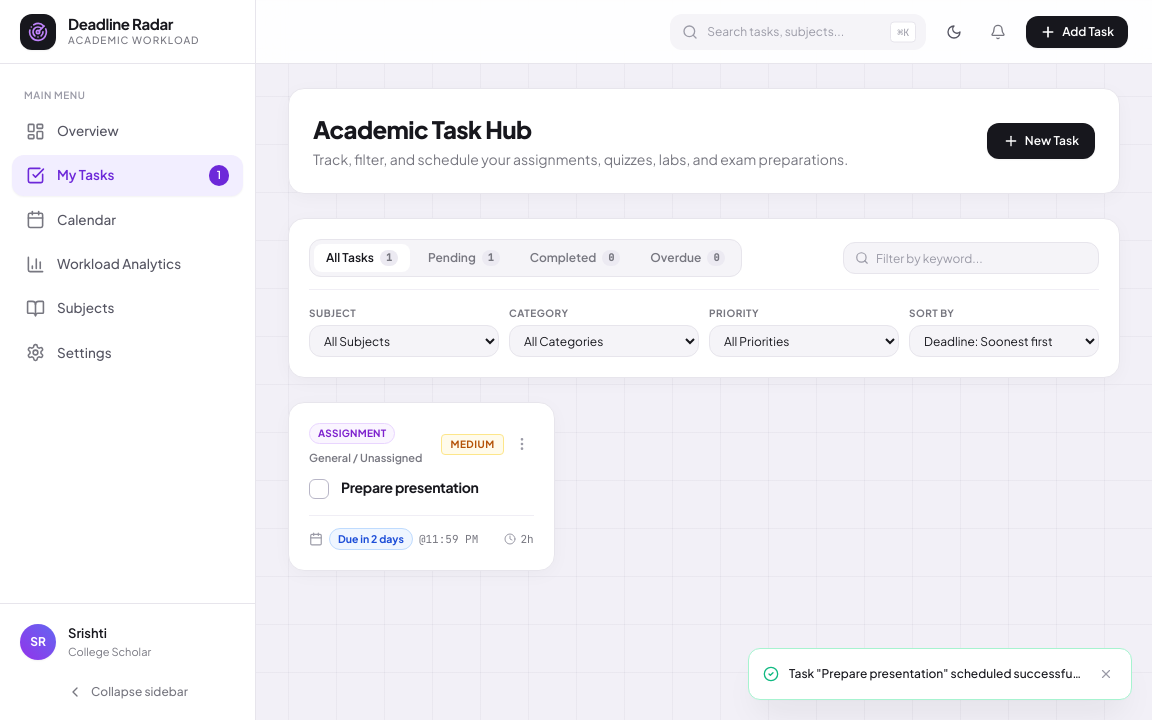
Deadline Radar task workflows › marks a task complete and updates dashboard task statistics
Earlier steps of the test are not shown.
Click the button named "Mark task as completed": (319, 488) [309,478,329,498]
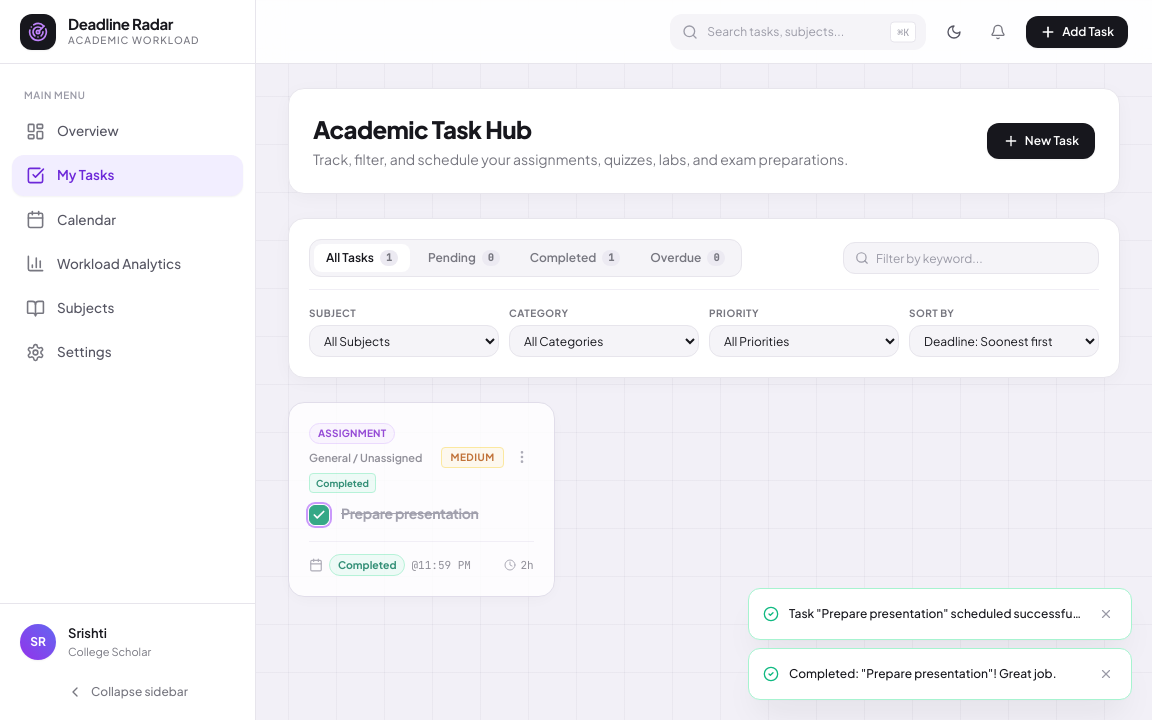
Click the button "Completed 1": (575, 258) [518,244,632,272]
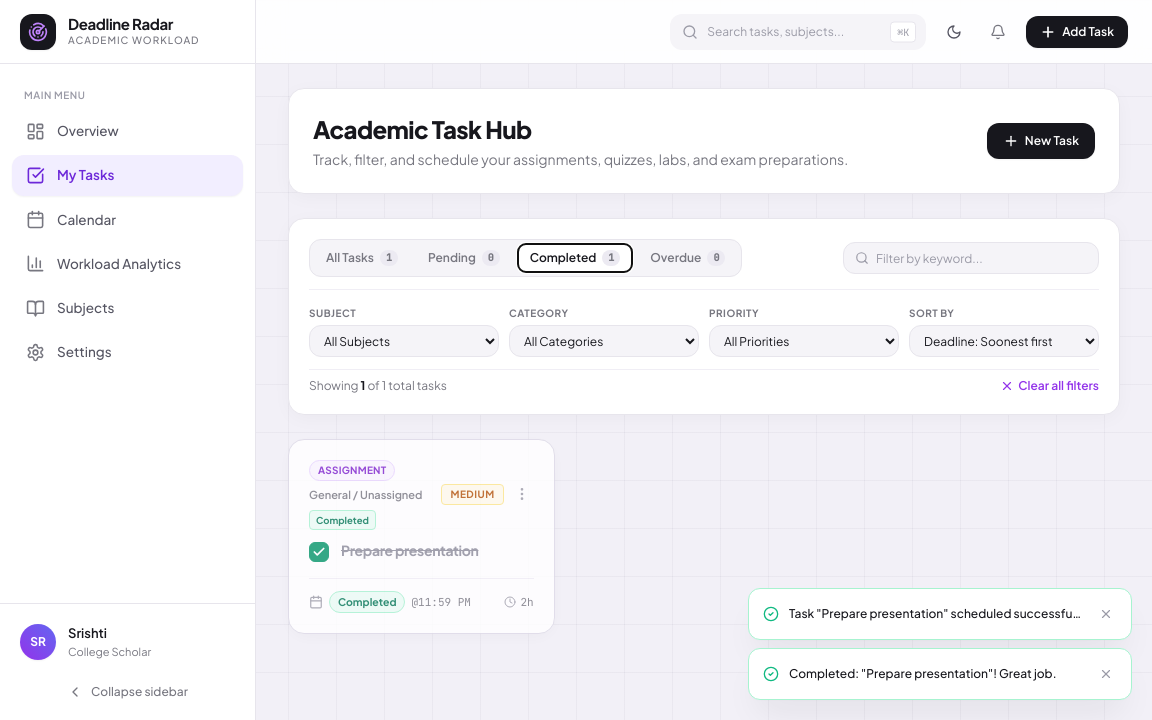
Check: the heading "Prepare presentation" is shown, box [341,541,478,559]
Check: the button named "Mark task as pending" is shown, box [309,542,329,562]
Click the button "Overview": (128, 131) [12,111,243,151]
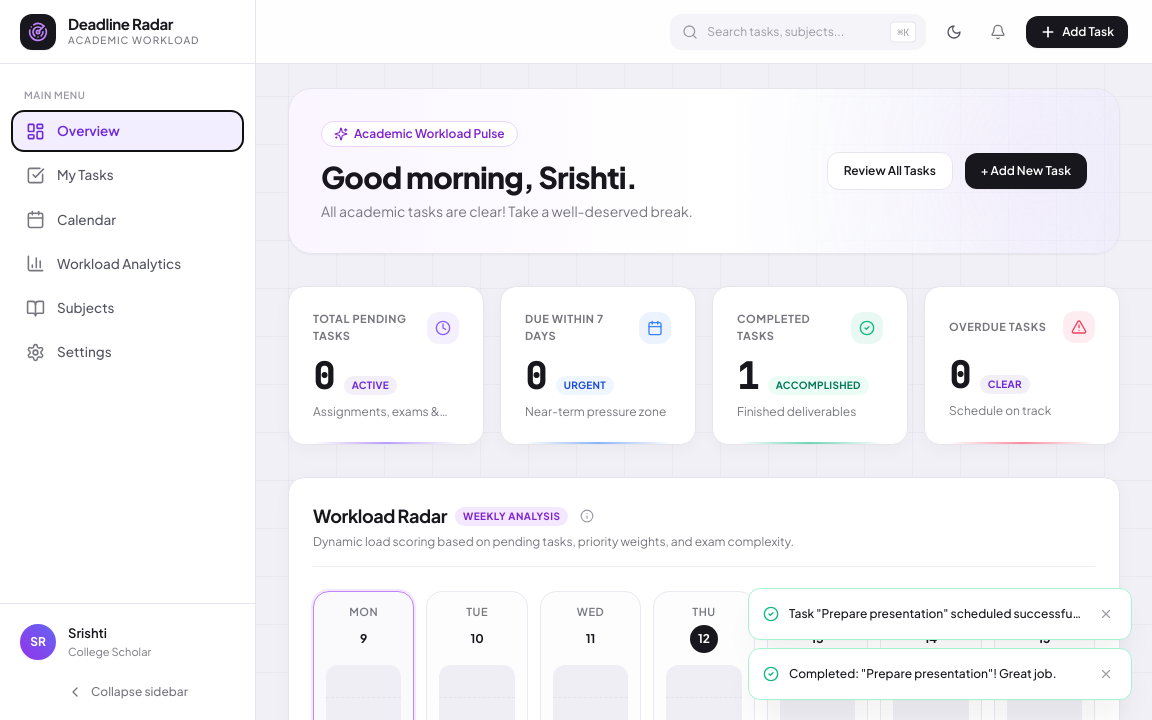
Check: the text "All academic tasks are clear! Take a well-deserved break." is shown, box [321,201,693,221]
Check: the text "1" is shown, box [737,356,758,396]
